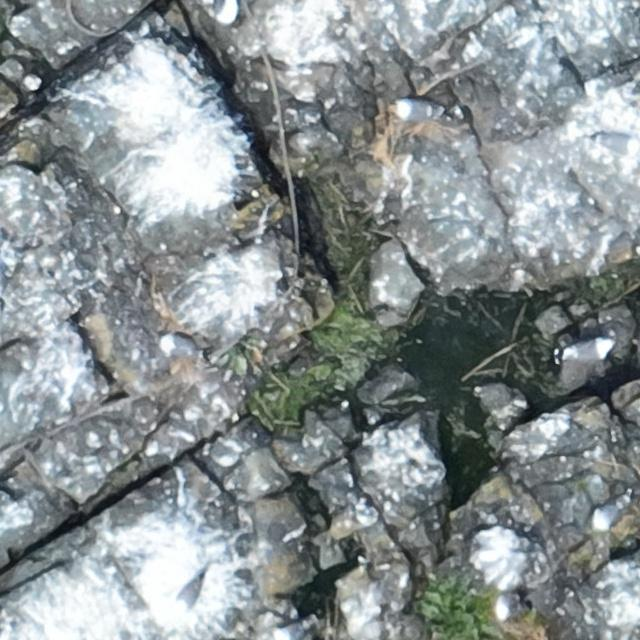umineko: (174, 569, 208, 616), (564, 340, 608, 360), (493, 600, 532, 622), (160, 335, 197, 357), (397, 100, 437, 120), (276, 618, 316, 638), (595, 502, 623, 526)
